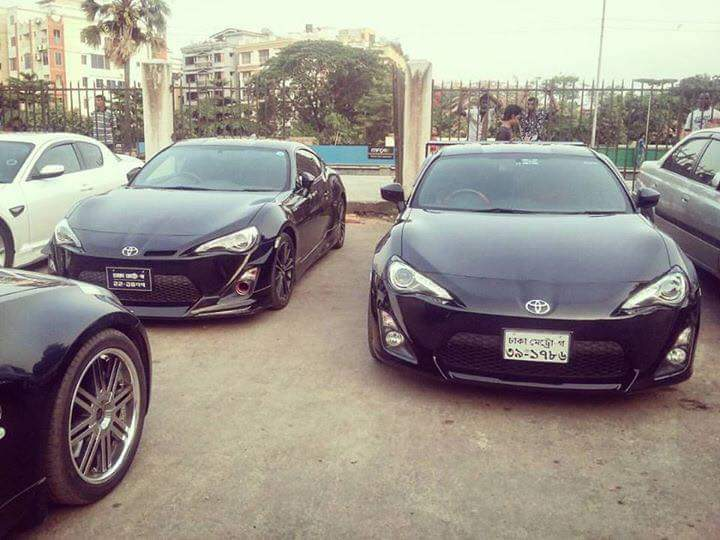registration_plate: (502, 329, 571, 364), (105, 268, 153, 292)
